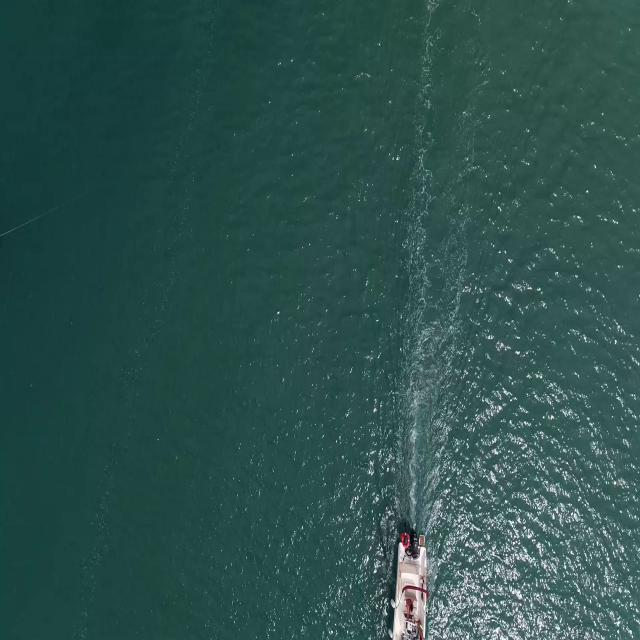boat: (388, 545, 428, 640)
life_buoy: (401, 529, 412, 549)
person: (404, 597, 414, 621), (414, 618, 424, 640)
